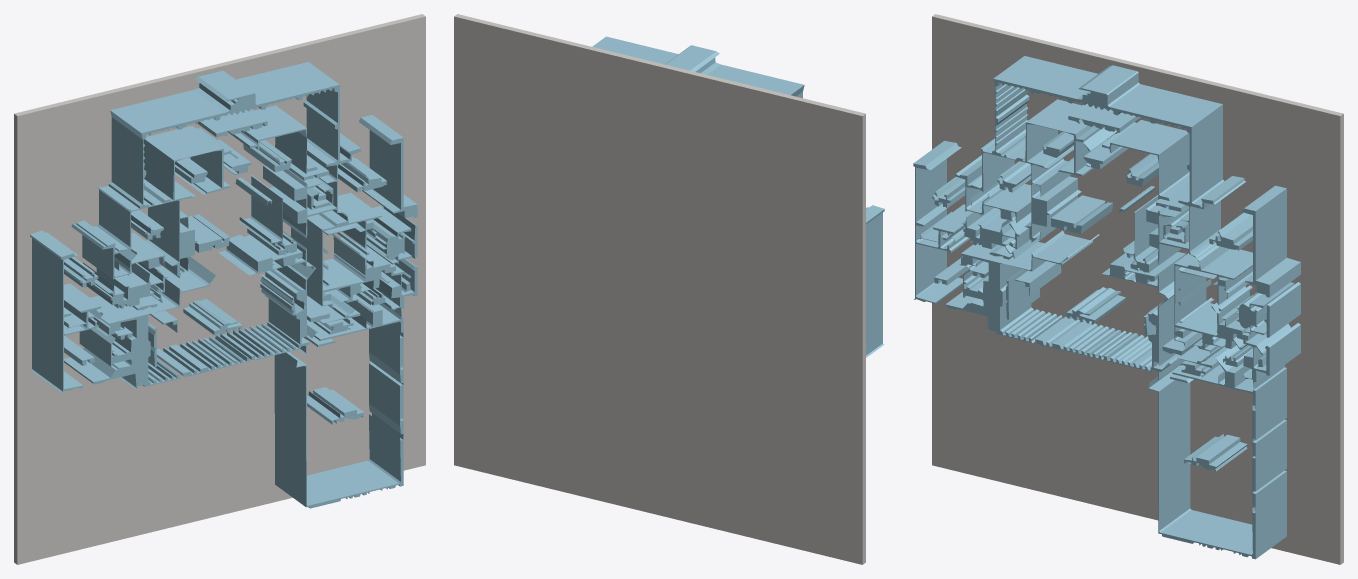
3 renders of one model, left to right at view 1: azimuth 30°, elevation 25°; view 2: azimuth 150°, elevation 25°; view 3: azimuth 330°, elevation 25°, orthographic.
Visible parts, largest first — view 1: world; view 2: world; view 3: world.
Part boxes in pixels (x1,y1,x2,y2): world: [14, 14, 425, 564]; world: [454, 14, 884, 564]; world: [913, 14, 1343, 564].
Size of the model in its own units: 10.23 by 10.74 by 1.51.
